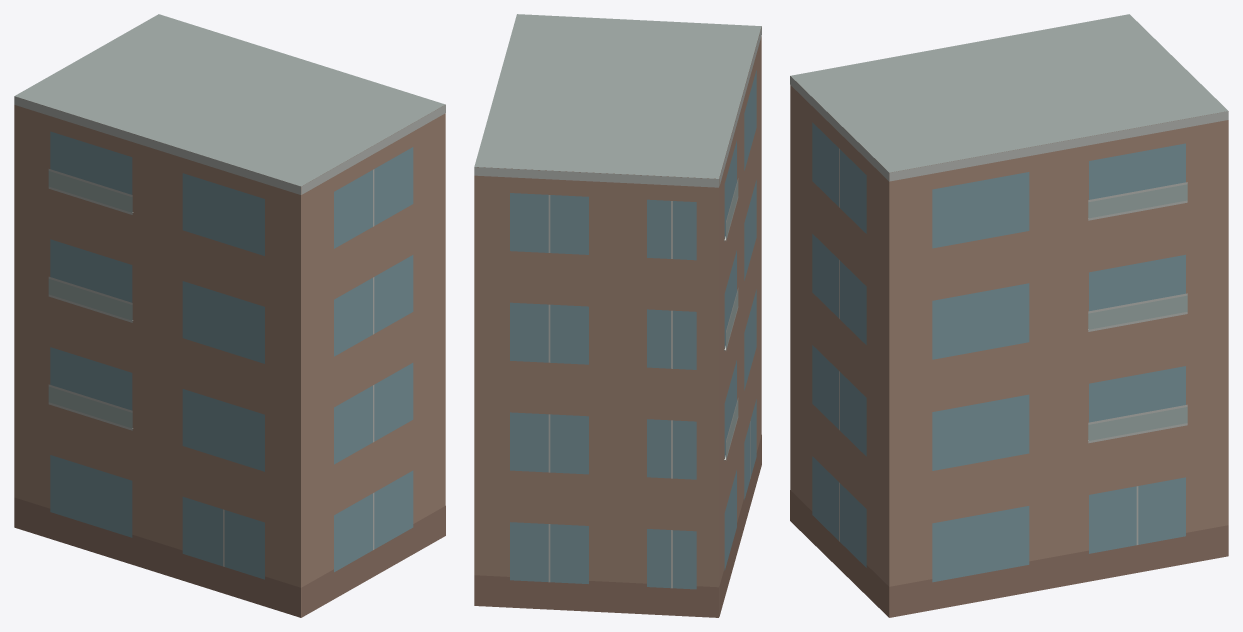
File: residential-5d9e3d11-dd74-4e2e-bc8a-31ed86f569ae.glb
The picture shows the model from 3 angles, left to right: view 1: azimuth 30°, elevation 25°; view 2: azimuth 150°, elevation 25°; view 3: azimuth 270°, elevation 25°; orthographic projection. The views are drawn at different scales.
Parts seen in each view (by area): view 1: residential-5d9e3d11-dd74-4e2e-bc8a-31ed86f569ae.tmp; view 2: residential-5d9e3d11-dd74-4e2e-bc8a-31ed86f569ae.tmp; view 3: residential-5d9e3d11-dd74-4e2e-bc8a-31ed86f569ae.tmp.
Boxes of the visible parts, left/top/right/bottom form: residential-5d9e3d11-dd74-4e2e-bc8a-31ed86f569ae.tmp: left=14, top=14, right=445, bottom=617; residential-5d9e3d11-dd74-4e2e-bc8a-31ed86f569ae.tmp: left=474, top=14, right=761, bottom=617; residential-5d9e3d11-dd74-4e2e-bc8a-31ed86f569ae.tmp: left=790, top=14, right=1228, bottom=617.
Size of the model in its own units: 9.33 by 12.2 by 10.9.
